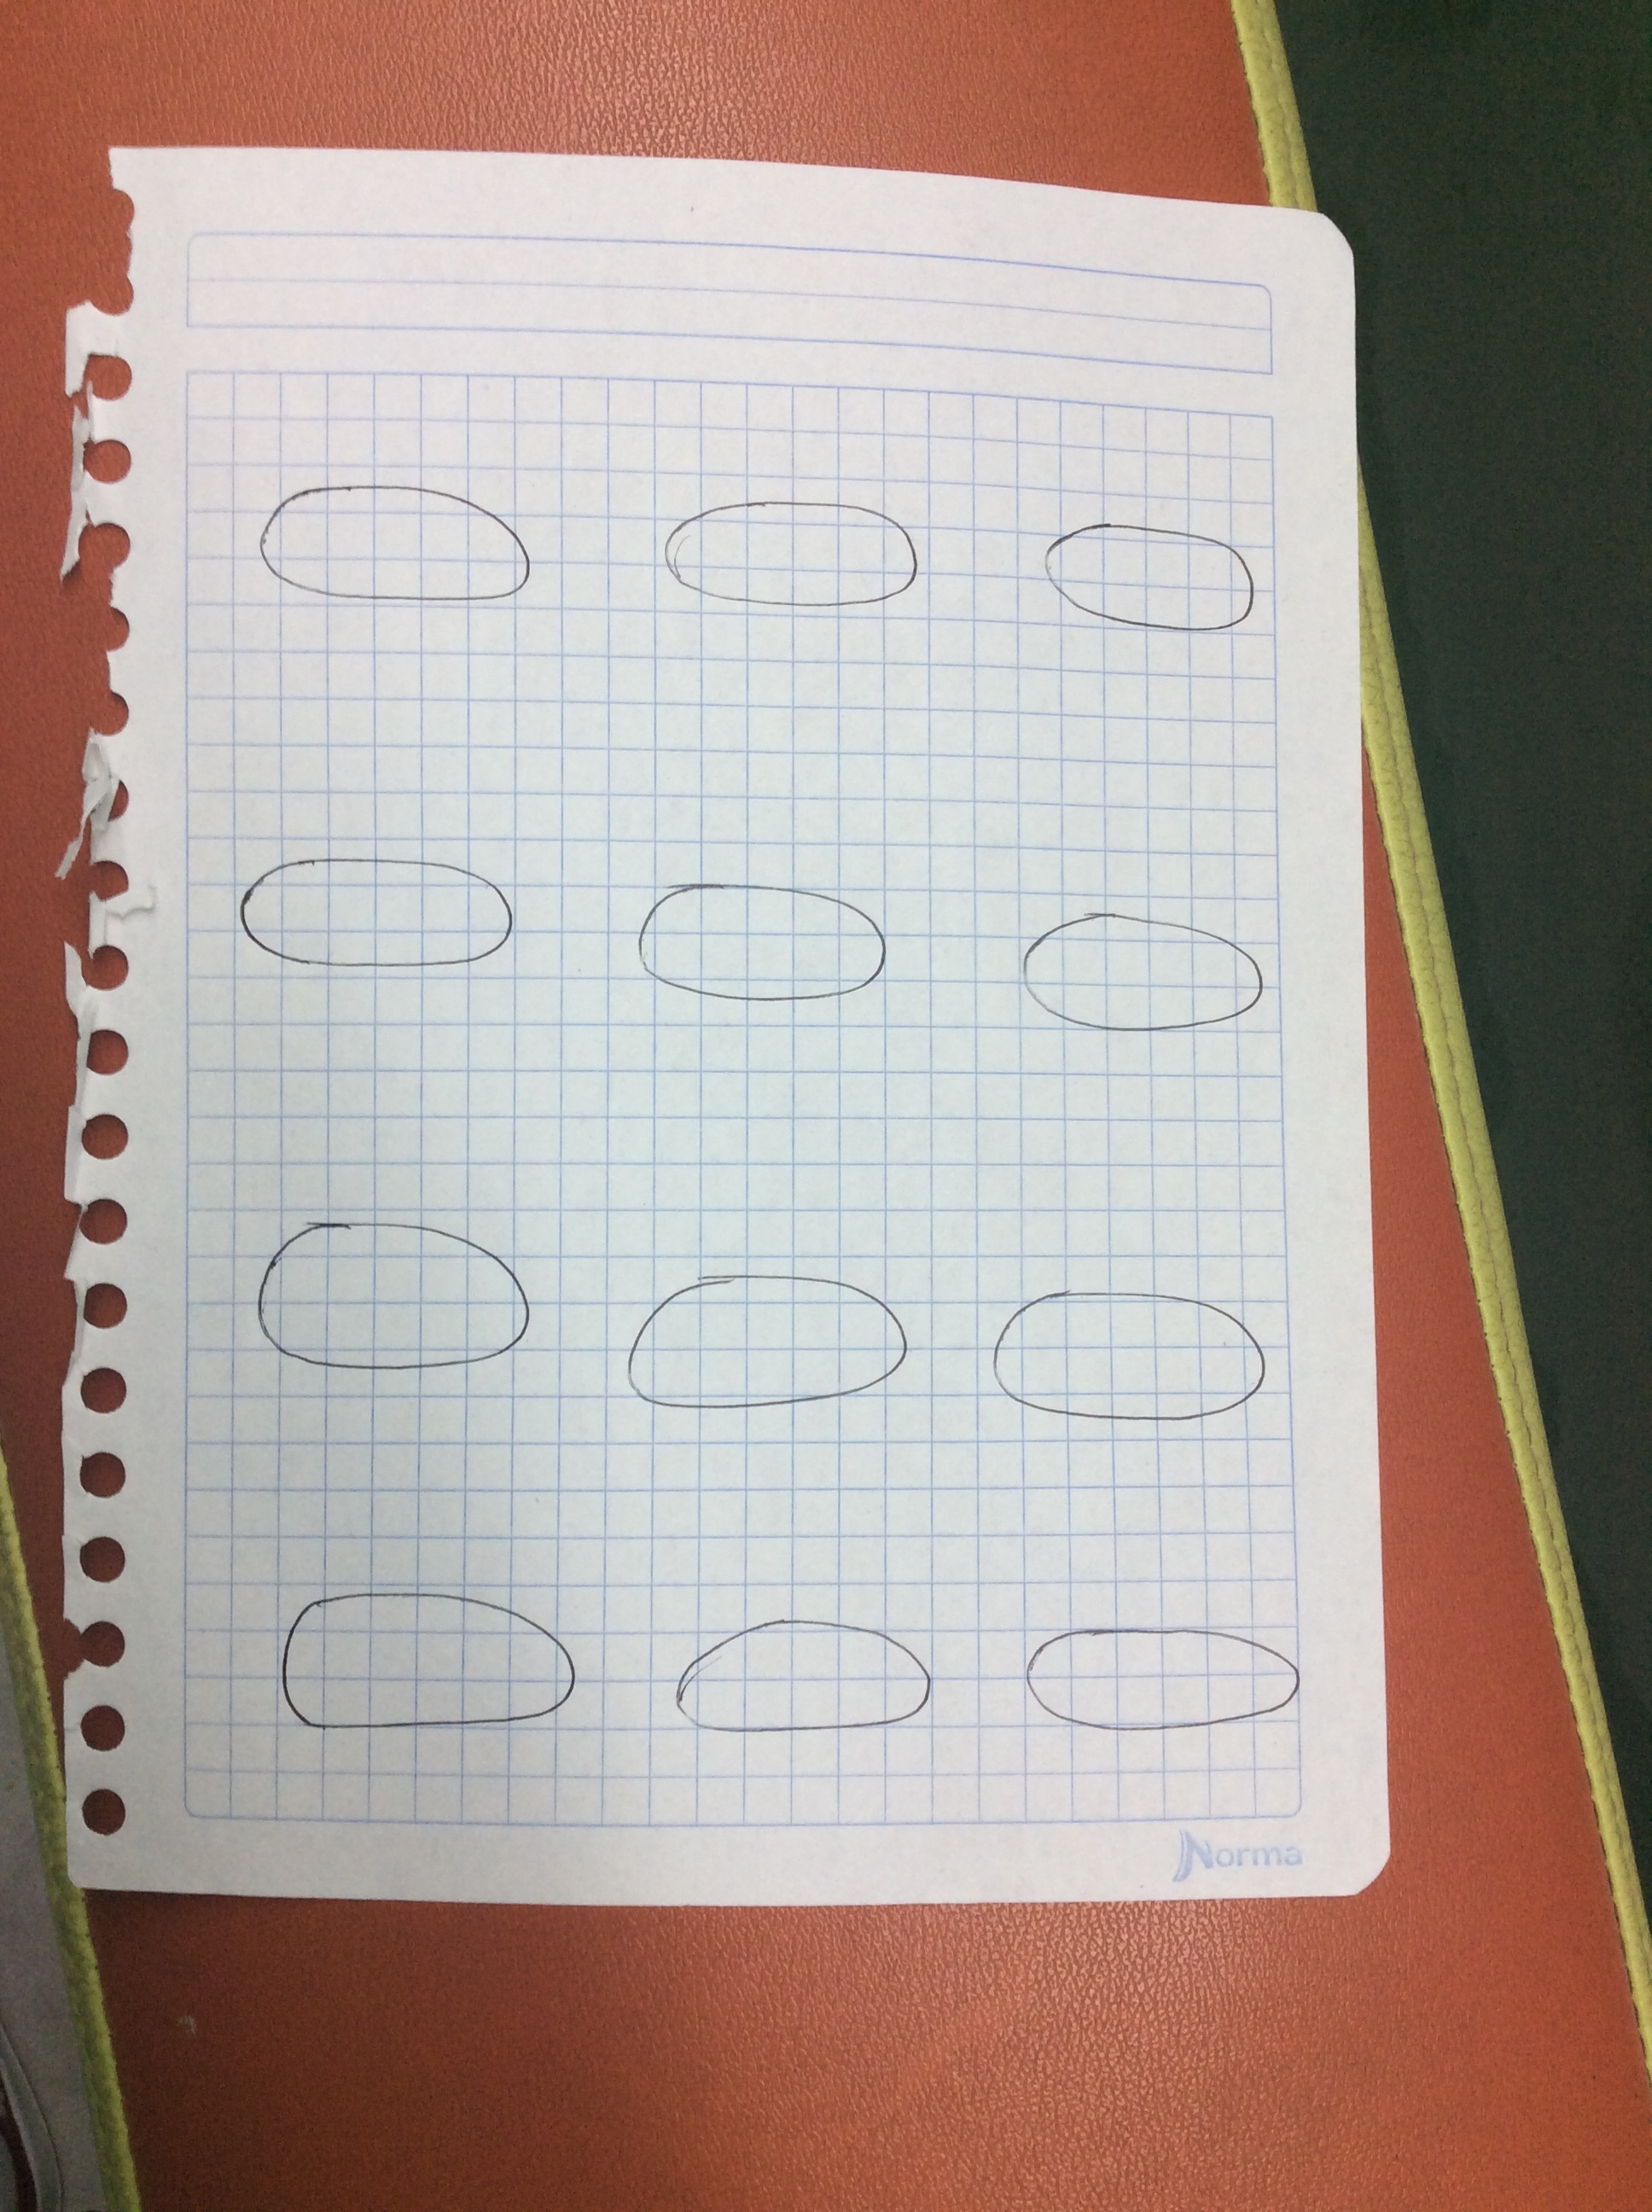start_end: (248, 1553, 602, 1757), (234, 1185, 559, 1390), (991, 1584, 1333, 1778), (991, 878, 1295, 1083), (238, 448, 567, 635), (609, 1249, 927, 1433), (633, 468, 961, 642), (210, 826, 552, 991), (979, 1273, 1295, 1450), (606, 847, 927, 1020), (654, 1577, 954, 1761), (1022, 488, 1282, 663)
